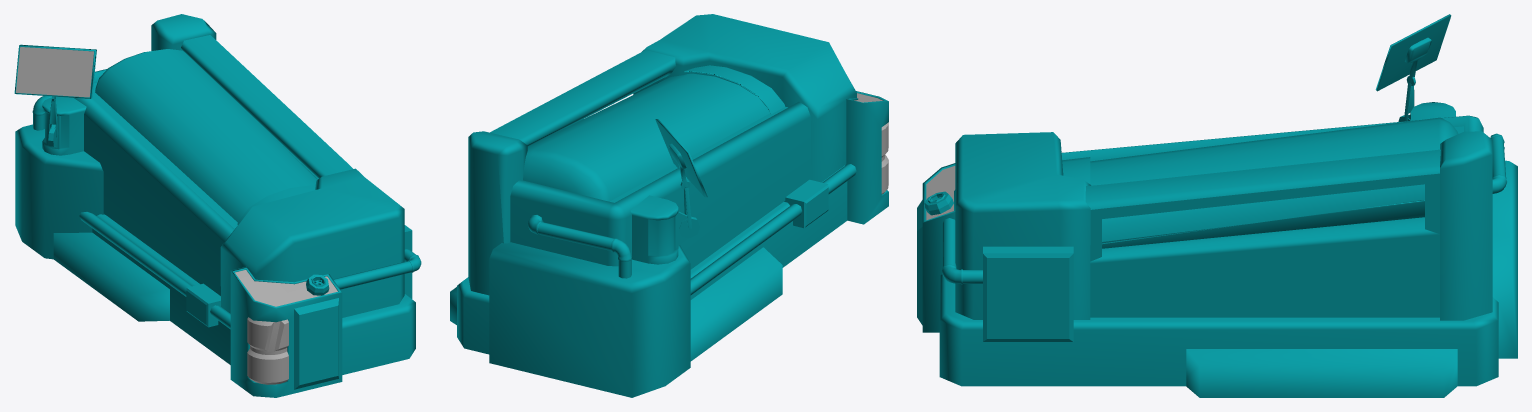
File: Cryopod_metal_4.5_mpenrod 2.fbx
The picture shows the model from 3 angles, left to right: view 1: azimuth 30°, elevation 25°; view 2: azimuth 150°, elevation 25°; view 3: azimuth 270°, elevation 25°; orthographic projection. The views are drawn at different scales.
Visible parts, largest first — view 1: polySurface54, polySurface49, Moniter, polySurface47, Power_gague; view 2: polySurface54, polySurface49, polySurface47; view 3: polySurface54, polySurface49, Power_gague.
Boxes of the visible parts, x1=… form: polySurface54: x1=14, y1=14, x2=421, y2=397; polySurface49: x1=95, y1=49, x2=317, y2=222; Moniter: x1=16, y1=47, x2=93, y2=97; polySurface47: x1=247, y1=317, x2=288, y2=384; Power_gague: x1=235, y1=270, x2=337, y2=306; polySurface54: x1=450, y1=14, x2=888, y2=397; polySurface49: x1=523, y1=73, x2=768, y2=201; polySurface47: x1=881, y1=122, x2=888, y2=194; polySurface54: x1=917, y1=14, x2=1517, y2=397; polySurface49: x1=1090, y1=117, x2=1458, y2=244; Power_gague: x1=926, y1=166, x2=955, y2=220.
Bounding box in the file's own units: 1.64 × 1.42 × 3.05.
